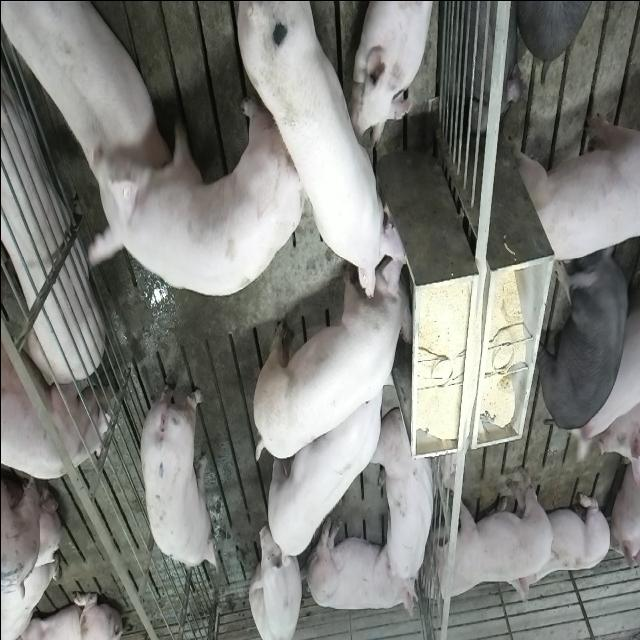Feeding: (239, 5, 416, 303), (255, 247, 420, 469)
Lateral_lying: (0, 46, 104, 406), (303, 514, 417, 620)
Sitting: (248, 521, 306, 638)
Standing: (81, 97, 301, 295), (261, 353, 394, 564), (4, 0, 160, 156), (510, 103, 638, 265), (537, 243, 633, 431), (426, 458, 556, 596), (140, 368, 224, 574), (0, 340, 110, 478)
Sternal_lying: (504, 488, 608, 612), (354, 0, 437, 144), (376, 406, 438, 592)
